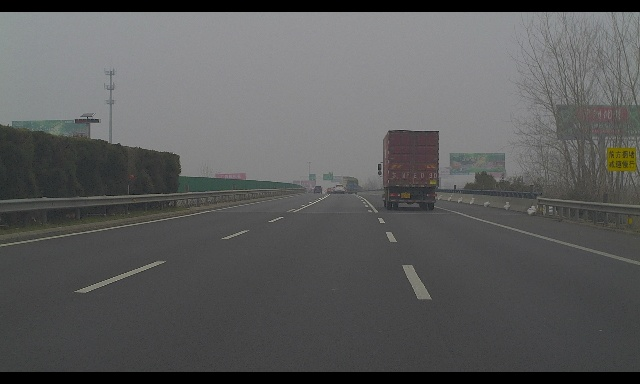car: (334, 185, 345, 194), (314, 186, 323, 194)
truck: (378, 130, 439, 210), (340, 177, 354, 192), (346, 178, 359, 194)
